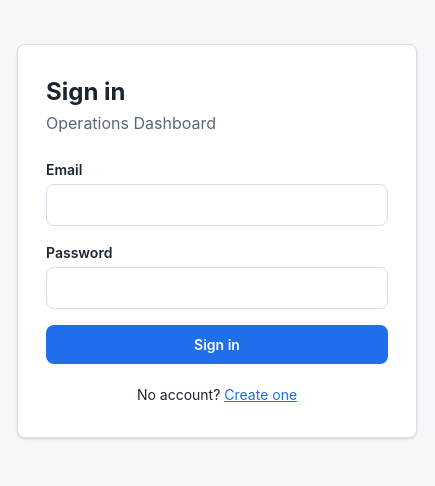
Test: Login page › shows the server error message when login fails
In the field labelled "Email": (217,205) [46, 184, 388, 226], type "ada@example.com"
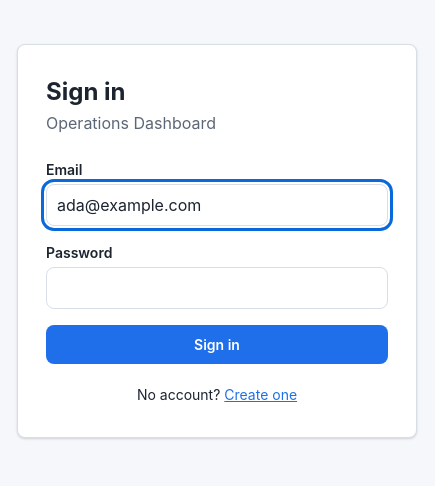
In the password field labelled "Password": (217,288) [46, 267, 388, 309], type "wrong"
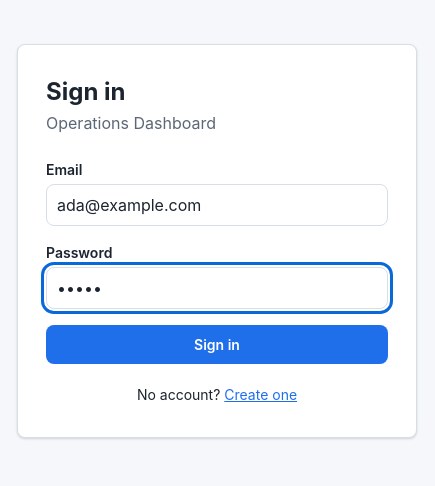
Click the button "Sign in": (217,344) [46, 325, 388, 364]
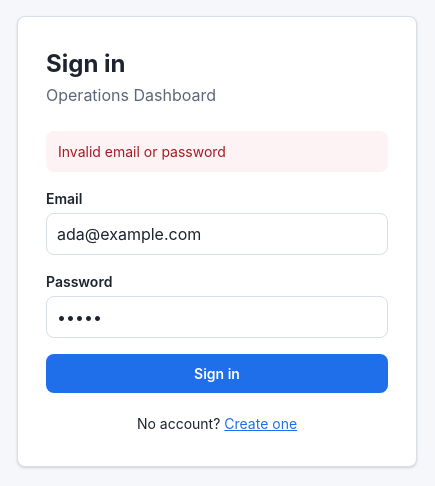
Expected: the button "Sign in" is enabled, [46, 354, 388, 392]
Result: the message reads "Invalid email or password" at [58, 142, 226, 160]
